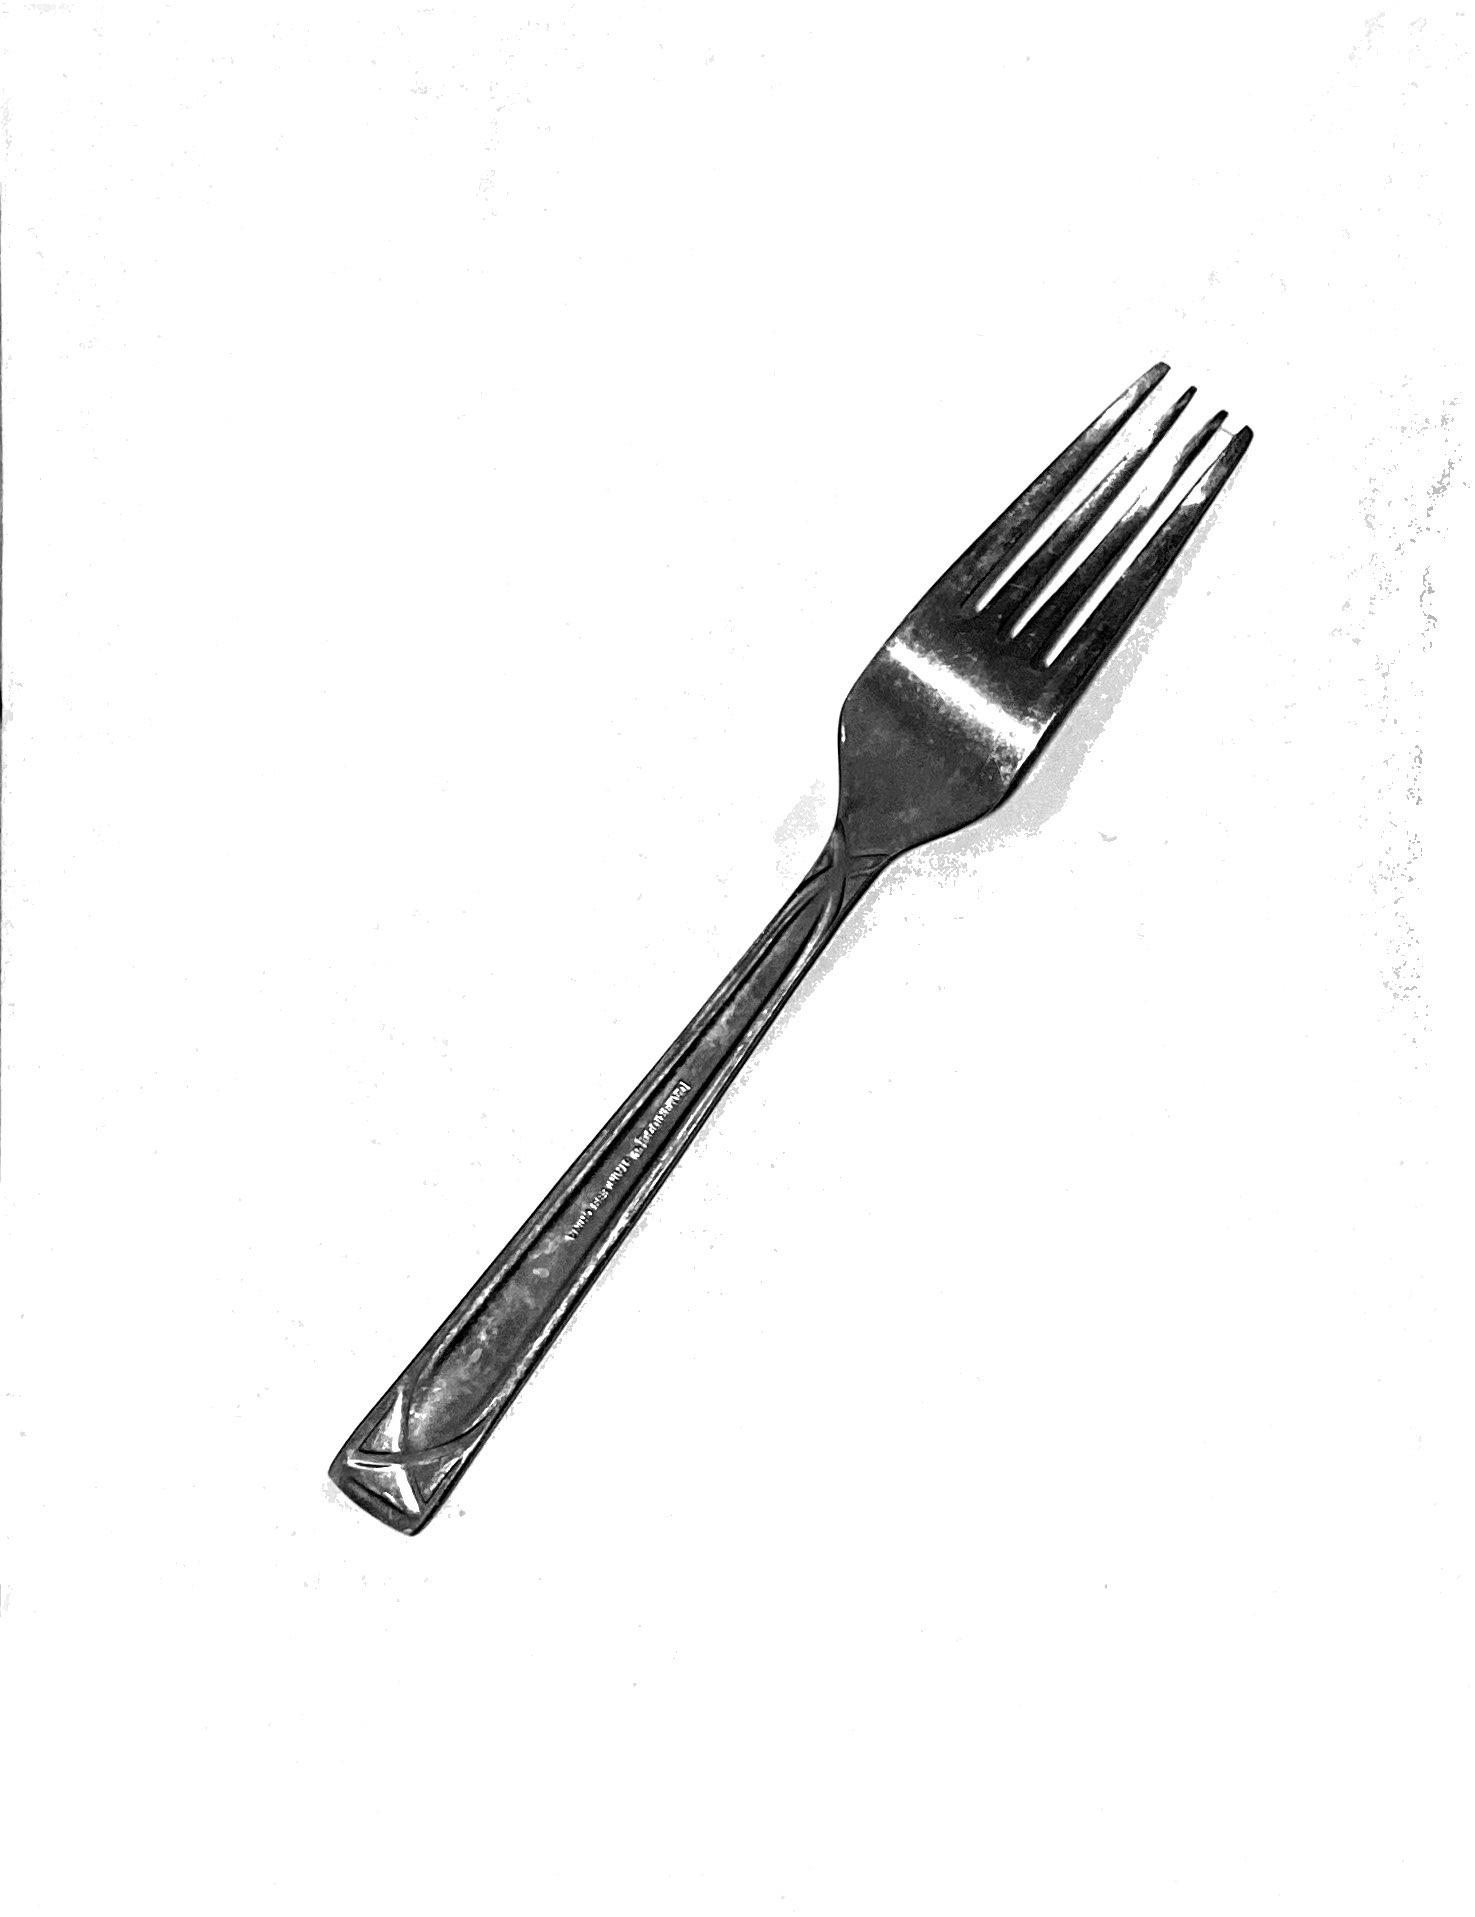Fork: (257, 287, 1350, 1664)
